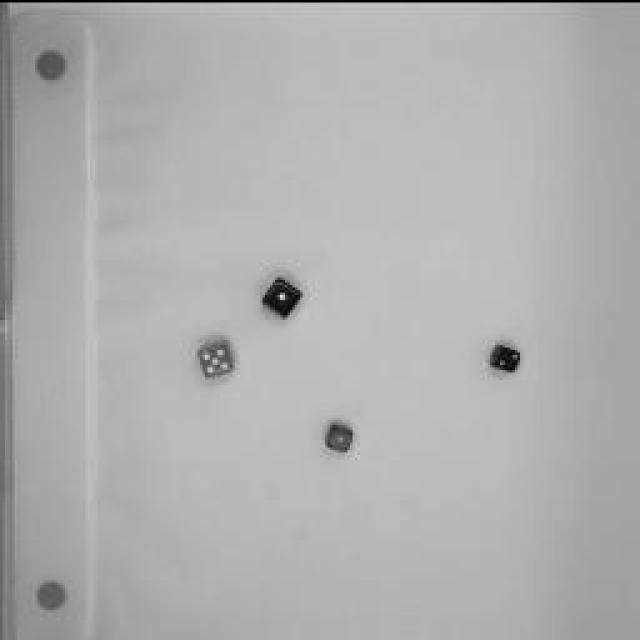dice_1: (256, 270, 312, 322), (321, 415, 364, 457)
dice_2: (485, 339, 525, 379)
dice_5: (192, 332, 248, 382)
